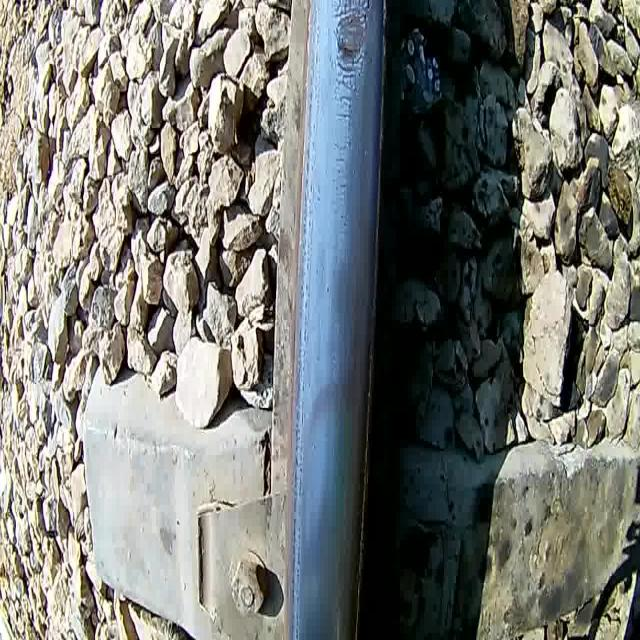Squats: (323, 0, 377, 97)
